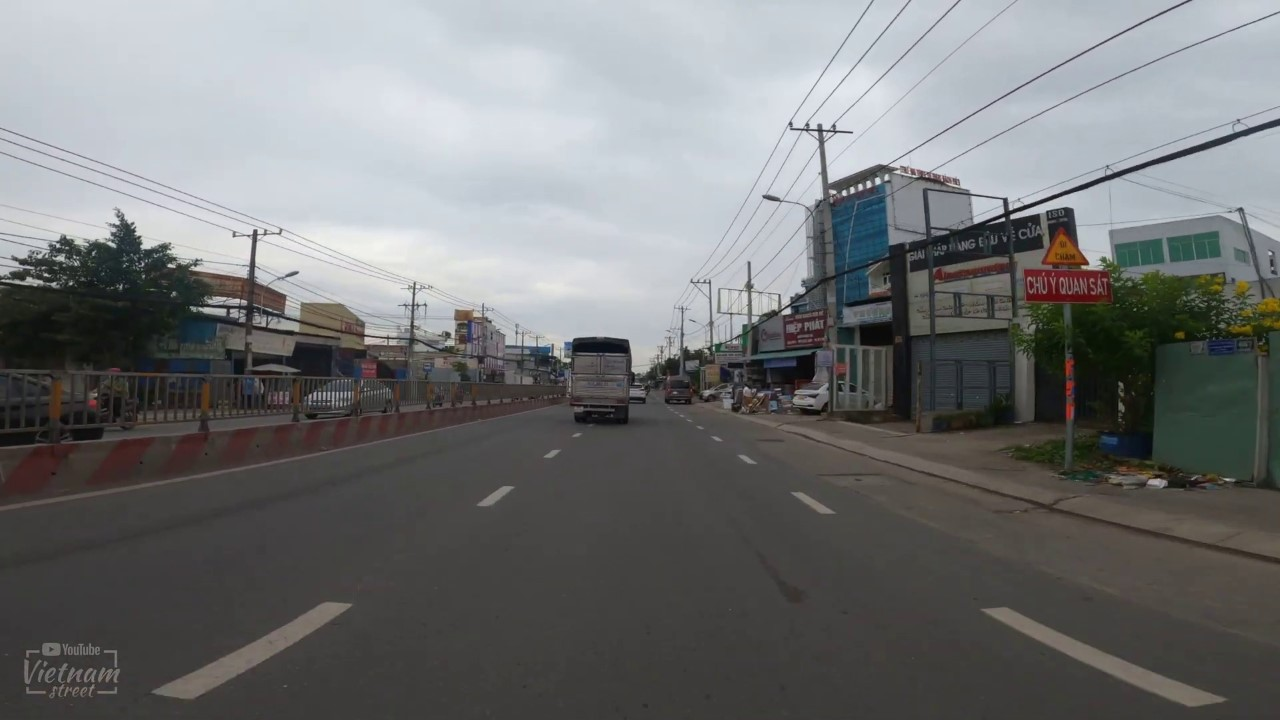di_cham: (1041, 228, 1090, 266)
